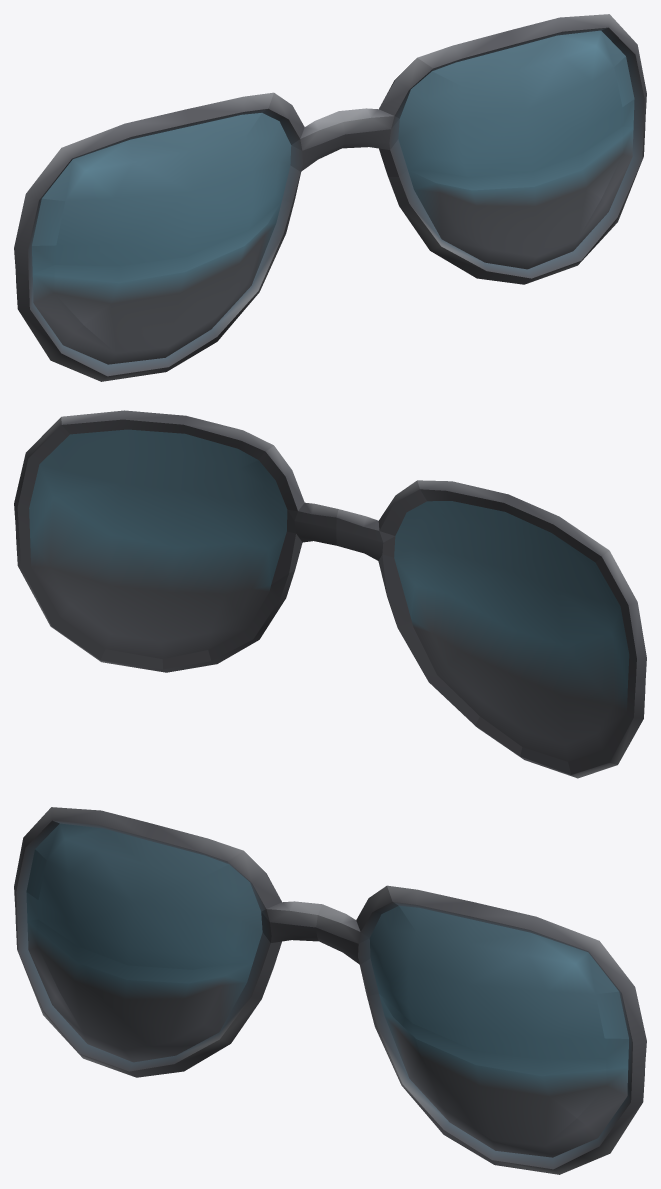
File: PoliceGlassesTom.glb
The picture shows the model from 3 angles, top to bottom: view 1: azimuth 30°, elevation 25°; view 2: azimuth 150°, elevation 25°; view 3: azimuth 330°, elevation 25°; orthographic projection.
Parts seen in each view (by area): view 1: PoliceGlassesTom; view 2: PoliceGlassesTom; view 3: PoliceGlassesTom.
Part boxes in pixels (x1,y1,x2,y2): PoliceGlassesTom: (14,14,646,381); PoliceGlassesTom: (14,410,646,778); PoliceGlassesTom: (14,807,646,1174).
Size of the model in its own units: 0.4076 by 0.1599 by 0.0376.
